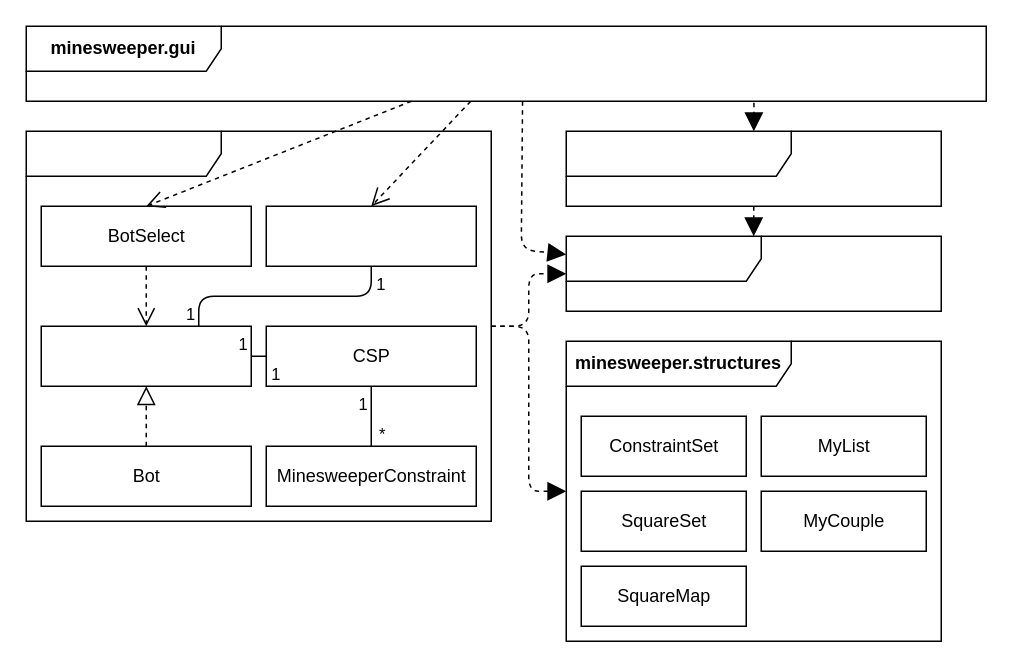
Image size: 1013x668. Some labels were removed from this diagram. Here are the shapes that lost their labels. From the top down, the box of each, then its label:
(565, 130, 941, 206): minesweeper.generator
(265, 205, 476, 266): BotExecutor
(565, 235, 941, 311): minesweeper.model
(25, 130, 491, 521): minesweeper.bot
(40, 325, 251, 386): MyBot
